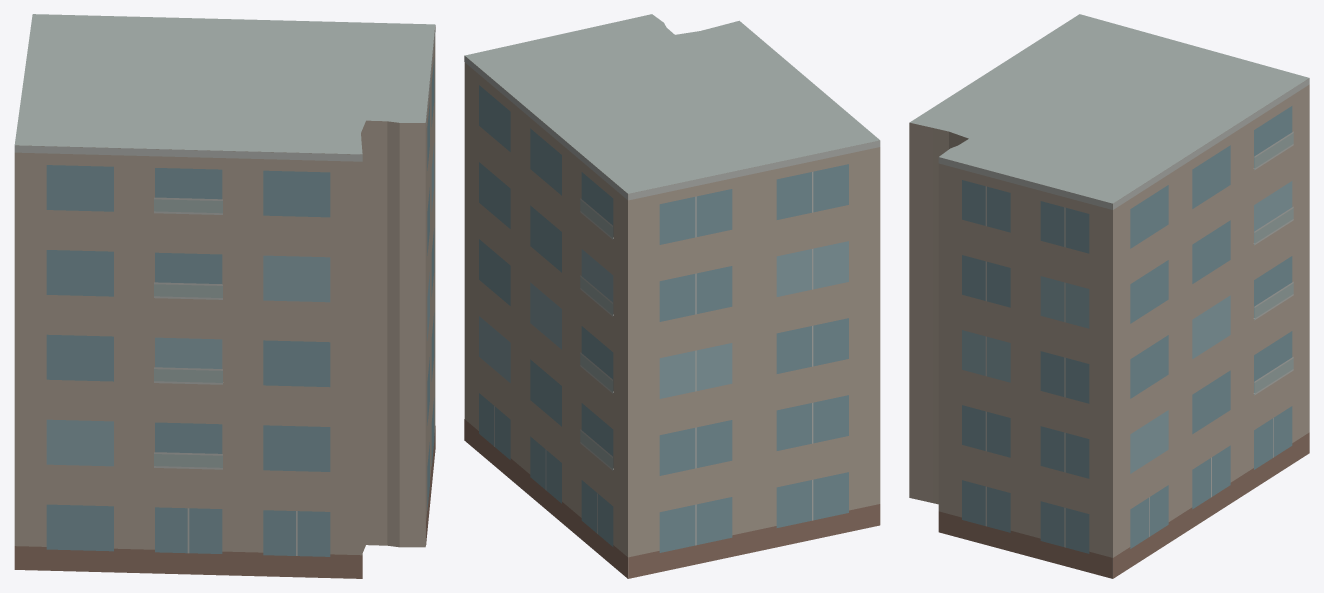
The model's file is survey-upis-32885152.glb.
3 renders of one model, left to right at view 1: azimuth 30°, elevation 25°; view 2: azimuth 150°, elevation 25°; view 3: azimuth 270°, elevation 25°, orthographic. The views are drawn at different scales.
Visible parts, largest first — view 1: survey-upis-32885152.tmp; view 2: survey-upis-32885152.tmp; view 3: survey-upis-32885152.tmp.
Part boxes in pixels (bbox=[...]): survey-upis-32885152.tmp: bbox=[14, 14, 435, 578]; survey-upis-32885152.tmp: bbox=[464, 14, 880, 578]; survey-upis-32885152.tmp: bbox=[909, 14, 1309, 578].
Bounding box in the file's own units: 15.4 × 14.2 × 13.74.
